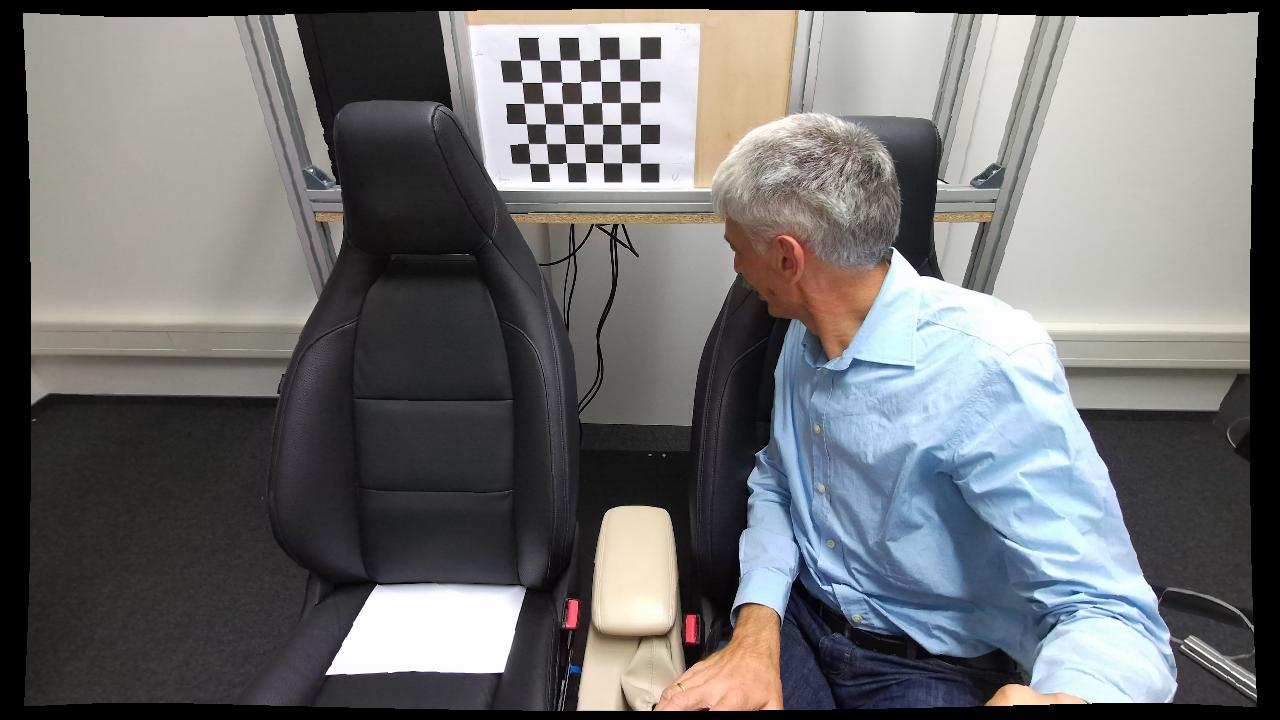Distracted: (695, 108, 1094, 703)
